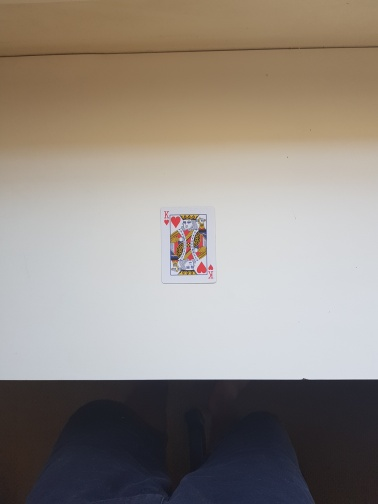king: (160, 205, 218, 285)
